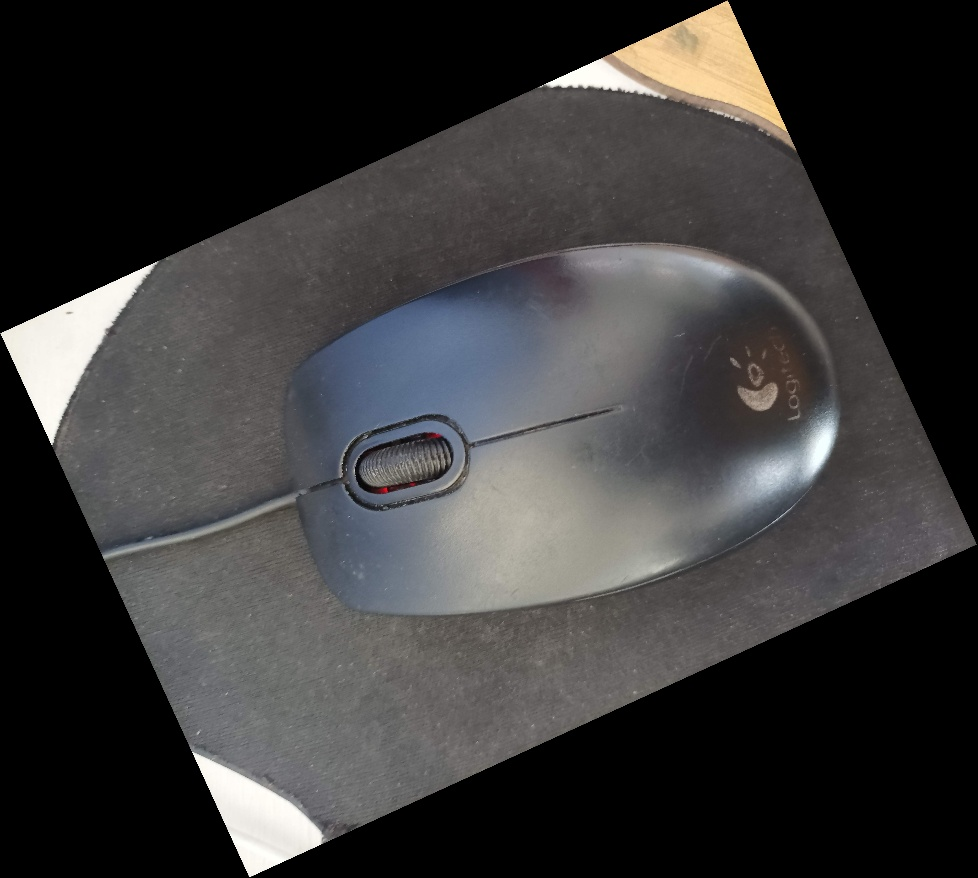mouse: (276, 234, 846, 621)
